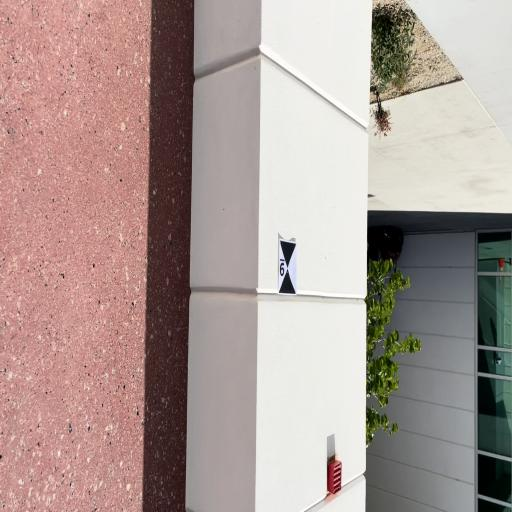target9: (277, 238, 298, 295)
